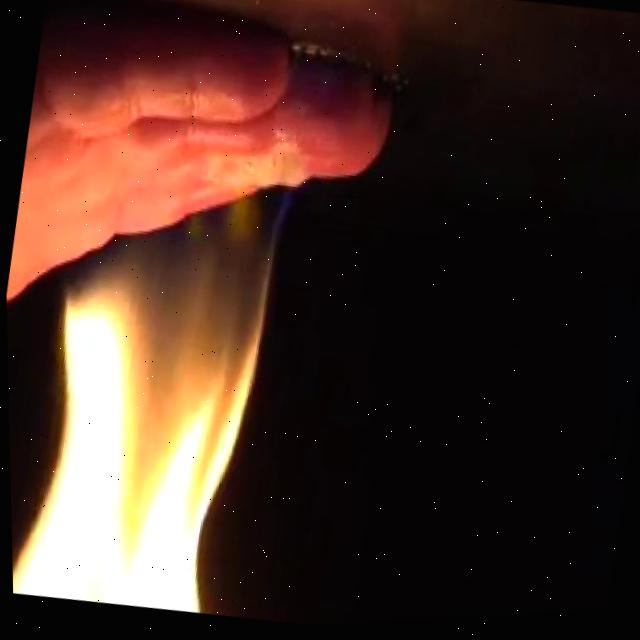Fire: (58, 166, 297, 589)
